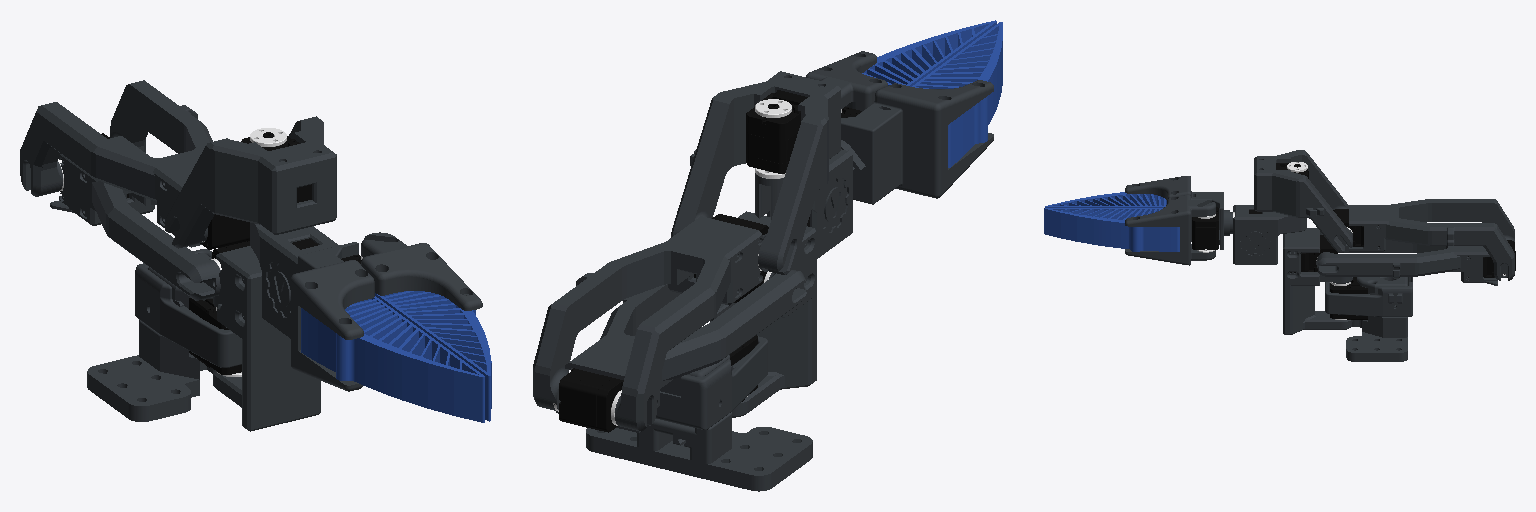
--- Render facts (derived) ---
The picture shows the robot from 3 angles, left to right: view 1: azimuth 30°, elevation 25°; view 2: azimuth 150°, elevation 25°; view 3: azimuth 270°, elevation 25°; orthographic projection.
Robot: urdf — 8 links, 7 joints (7 revolute); root link base; default pose: all joints at 0.
Links seen in each view (by area): view 1: gripper_base, forearm, wrist_raise, base, base_pan, gripper_move, arm, wrist_pan; view 2: forearm, wrist_raise, gripper_base, base, arm, base_pan, gripper_move, wrist_pan; view 3: forearm, gripper_move, base, wrist_raise, arm, base_pan, gripper_base, wrist_pan.
Link boxes in pixels (x1=…): gripper_base: x1=291, y1=242, x2=484, y2=422; forearm: x1=20, y1=80, x2=249, y2=249; wrist_raise: x1=165, y1=116, x2=336, y2=248; base: x1=87, y1=249, x2=241, y2=421; base_pan: x1=211, y1=241, x2=320, y2=431; gripper_move: x1=361, y1=232, x2=491, y2=421; arm: x1=50, y1=133, x2=220, y2=300; wrist_pan: x1=250, y1=223, x2=339, y2=338; forearm: x1=533, y1=214, x2=768, y2=431; wrist_raise: x1=671, y1=71, x2=840, y2=274; gripper_base: x1=841, y1=22, x2=1002, y2=204; base: x1=586, y1=335, x2=812, y2=491; arm: x1=553, y1=270, x2=806, y2=432; base_pan: x1=710, y1=211, x2=816, y2=417; gripper_move: x1=806, y1=20, x2=996, y2=110; wrist_pan: x1=755, y1=149, x2=852, y2=258; forearm: x1=1333, y1=199, x2=1514, y2=280; gripper_move: x1=1044, y1=195, x2=1215, y2=265; base: x1=1325, y1=277, x2=1412, y2=361; wrist_raise: x1=1254, y1=150, x2=1352, y2=252; arm: x1=1316, y1=232, x2=1515, y2=285; base_pan: x1=1283, y1=228, x2=1352, y2=334; gripper_base: x1=1045, y1=176, x2=1232, y2=252; wrist_pan: x1=1233, y1=205, x2=1306, y2=264.
Size in the robot's own frame: 0.1107 by 0.428 by 0.1709 metres.
Meshes: 18 distinct files referenced, 67 mesh visuals loaded (18 binary STL).

URDF robot description (urdf):
<?xml version="1.0" ?>
<!-- Generated using onshape-to-robot -->
<!-- Onshape https://cad.onshape.com/documents/8f0c406ec917b7dcd4f2a559/w/98dc4b308a1cdd23475c2f79/e/5e1992bfb0f88c9dc7357fb3 -->
<robot name="urdf">
  <!-- Link base -->
  <link name="base">
    <inertial>
      <origin xyz="0.000371669 -0.0122024 0.041647" rpy="0 0 0"/>
      <mass value="0.0275445"/>
      <inertia ixx="2.09633e-05" ixy="-1.25235e-07" ixz="-5.4837e-08" iyy="9.13324e-06" iyz="-1.20902e-06" izz="2.71049e-05"/>
    </inertial>
    <!-- Part motor1_holder_v1 -->
    <visual>
      <origin xyz="9.94325e-05 -4.16334e-17 -0.00861064" rpy="1.5708 1.22144e-08 2.39214e-15"/>
      <geometry>
        <mesh filename="package://assets/motor1_holder_v1.stl"/>
      </geometry>
      <material name="motor1_holder_v1_material">
        <color rgba="0.262745 0.282353 0.301961 1"/>
      </material>
    </visual>
    <collision>
      <origin xyz="9.94325e-05 -4.16334e-17 -0.00861064" rpy="1.5708 1.22144e-08 2.39214e-15"/>
      <geometry>
        <mesh filename="package://assets/motor1_holder_v1.stl"/>
      </geometry>
    </collision>
    <!-- Part base_so101_v2 -->
    <visual>
      <origin xyz="3.04734e-19 0 -0.0085" rpy="1.5708 1.22144e-08 0"/>
      <geometry>
        <mesh filename="package://assets/base_so101_v2.stl"/>
      </geometry>
      <material name="base_so101_v2_material">
        <color rgba="0.262745 0.282353 0.301961 1"/>
      </material>
    </visual>
    <collision>
      <origin xyz="3.04734e-19 0 -0.0085" rpy="1.5708 1.22144e-08 0"/>
      <geometry>
        <mesh filename="package://assets/base_so101_v2.stl"/>
      </geometry>
    </collision>
    <!-- Part ge_27 -->
    <visual>
      <origin xyz="6.08275e-10 -0.04515 0.0413" rpy="-3.14159 -1.72327e-14 1.5708"/>
      <geometry>
        <mesh filename="package://assets/ge_27.stl"/>
      </geometry>
      <material name="ge_27_material">
        <color rgba="0.0980392 0.0980392 0.0980392 1"/>
      </material>
    </visual>
    <collision>
      <origin xyz="6.08275e-10 -0.04515 0.0413" rpy="-3.14159 -1.72327e-14 1.5708"/>
      <geometry>
        <mesh filename="package://assets/ge_27.stl"/>
      </geometry>
    </collision>
    <!-- Part xg_ziji_16 -->
    <visual>
      <origin xyz="6.81562e-10 -0.01965 0.0473" rpy="1.5708 -6.31089e-30 1.5708"/>
      <geometry>
        <mesh filename="package://assets/xg_ziji_16.stl"/>
      </geometry>
      <material name="xg_ziji_16_material">
        <color rgba="0.0980392 0.0980392 0.0980392 1"/>
      </material>
    </visual>
    <collision>
      <origin xyz="6.81562e-10 -0.01965 0.0473" rpy="1.5708 -6.31089e-30 1.5708"/>
      <geometry>
        <mesh filename="package://assets/xg_ziji_16.stl"/>
      </geometry>
    </collision>
    <!-- Part pcb_chazuo_92 -->
    <visual>
      <origin xyz="6.81562e-10 -0.01965 0.0473" rpy="1.5708 -6.31089e-30 1.5708"/>
      <geometry>
        <mesh filename="package://assets/pcb_chazuo_92.stl"/>
      </geometry>
      <material name="pcb_chazuo_92_material">
        <color rgba="0.0980392 0.0980392 0.0980392 1"/>
      </material>
    </visual>
    <collision>
      <origin xyz="6.81562e-10 -0.01965 0.0473" rpy="1.5708 -6.31089e-30 1.5708"/>
      <geometry>
        <mesh filename="package://assets/pcb_chazuo_92.stl"/>
      </geometry>
    </collision>
    <!-- Part zk_122 -->
    <visual>
      <origin xyz="6.81562e-10 -0.01965 0.0473" rpy="1.5708 -6.31089e-30 1.5708"/>
      <geometry>
        <mesh filename="package://assets/zk_122.stl"/>
      </geometry>
      <material name="zk_122_material">
        <color rgba="0.0980392 0.0980392 0.0980392 1"/>
      </material>
    </visual>
    <collision>
      <origin xyz="6.81562e-10 -0.01965 0.0473" rpy="1.5708 -6.31089e-30 1.5708"/>
      <geometry>
        <mesh filename="package://assets/zk_122.stl"/>
      </geometry>
    </collision>
    <!-- Part 金属舵盘_驱动__v2 -->
    <visual>
      <origin xyz="4.69031e-10 -0.05515 0.0299" rpy="1.5708 -3.63043e-14 1.5708"/>
      <geometry>
        <mesh filename="package://assets/金属舵盘_驱动__v2.stl"/>
      </geometry>
      <material name="金属舵盘_驱动__v2_material">
        <color rgba="0.960784 0.960784 0.964706 1"/>
      </material>
    </visual>
    <collision>
      <origin xyz="4.69031e-10 -0.05515 0.0299" rpy="1.5708 -3.63043e-14 1.5708"/>
      <geometry>
        <mesh filename="package://assets/金属舵盘_驱动__v2.stl"/>
      </geometry>
    </collision>
    <!-- Part 金属舵盘_从动__v2 -->
    <visual>
      <origin xyz="7.75598e-11 -0.03515 -0.00215" rpy="-1.5708 7.21645e-15 -1.5708"/>
      <geometry>
        <mesh filename="package://assets/金属舵盘_从动__v2.stl"/>
      </geometry>
      <material name="金属舵盘_从动__v2_material">
        <color rgba="0.960784 0.960784 0.964706 1"/>
      </material>
    </visual>
    <collision>
      <origin xyz="7.75598e-11 -0.03515 -0.00215" rpy="-1.5708 7.21645e-15 -1.5708"/>
      <geometry>
        <mesh filename="package://assets/金属舵盘_从动__v2.stl"/>
      </geometry>
    </collision>
    <!-- Part motor_1723_3 -->
    <visual>
      <origin xyz="-0.00125 -0.01965 0.02445" rpy="1.5708 -1.22144e-08 3.14159"/>
      <geometry>
        <mesh filename="package://assets/motor_1723_3.stl"/>
      </geometry>
      <material name="motor_1723_3_material">
        <color rgba="0.0980392 0.0980392 0.0980392 1"/>
      </material>
    </visual>
    <collision>
      <origin xyz="-0.00125 -0.01965 0.02445" rpy="1.5708 -1.22144e-08 3.14159"/>
      <geometry>
        <mesh filename="package://assets/motor_1723_3.stl"/>
      </geometry>
    </collision>
    <!-- Part sg_ziji_15 -->
    <visual>
      <origin xyz="6.81562e-10 -0.01965 0.0473" rpy="1.5708 -6.31089e-30 1.5708"/>
      <geometry>
        <mesh filename="package://assets/sg_ziji_15.stl"/>
      </geometry>
      <material name="sg_ziji_15_material">
        <color rgba="0.0980392 0.0980392 0.0980392 1"/>
      </material>
    </visual>
    <collision>
      <origin xyz="6.81562e-10 -0.01965 0.0473" rpy="1.5708 -6.31089e-30 1.5708"/>
      <geometry>
        <mesh filename="package://assets/sg_ziji_15.stl"/>
      </geometry>
    </collision>
  </link>
  <!-- Link base_pan -->
  <link name="base_pan">
    <inertial>
      <origin xyz="0 0 0" rpy="0 0 0"/>
      <mass value="1e-09"/>
      <inertia ixx="1e-09" ixy="0" ixz="0" iyy="1e-09" iyz="0" izz="1e-09"/>
    </inertial>
    <!-- Part part_1 -->
    <visual>
      <origin xyz="0.000236556 7.32214e-18 0.0182" rpy="3.14159 8.84314e-16 3.14159"/>
      <geometry>
        <mesh filename="package://assets/part_1.stl"/>
      </geometry>
      <material name="part_1_material">
        <color rgba="0.262745 0.282353 0.301961 1"/>
      </material>
    </visual>
    <collision>
      <origin xyz="0.000236556 7.32214e-18 0.0182" rpy="3.14159 8.84314e-16 3.14159"/>
      <geometry>
        <mesh filename="package://assets/part_1.stl"/>
      </geometry>
    </collision>
    <!-- Part ge_27_2 -->
    <visual>
      <origin xyz="-0.0126601 -0.004 -0.0252617" rpy="1.5708 5.37163e-13 3.14159"/>
      <geometry>
        <mesh filename="package://assets/ge_27.stl"/>
      </geometry>
      <material name="ge_27_2_material">
        <color rgba="0.0980392 0.0980392 0.0980392 1"/>
      </material>
    </visual>
    <collision>
      <origin xyz="-0.0126601 -0.004 -0.0252617" rpy="1.5708 5.37163e-13 3.14159"/>
      <geometry>
        <mesh filename="package://assets/ge_27.stl"/>
      </geometry>
    </collision>
    <!-- Part xg_ziji_16_2 -->
    <visual>
      <origin xyz="-0.0381601 -0.01 -0.0252617" rpy="-5.18819e-17 8.84314e-16 -3.14159"/>
      <geometry>
        <mesh filename="package://assets/xg_ziji_16.stl"/>
      </geometry>
      <material name="xg_ziji_16_2_material">
        <color rgba="0.0980392 0.0980392 0.0980392 1"/>
      </material>
    </visual>
    <collision>
      <origin xyz="-0.0381601 -0.01 -0.0252617" rpy="-5.18819e-17 8.84314e-16 -3.14159"/>
      <geometry>
        <mesh filename="package://assets/xg_ziji_16.stl"/>
      </geometry>
    </collision>
    <!-- Part pcb_chazuo_92_2 -->
    <visual>
      <origin xyz="-0.0381601 -0.01 -0.0252617" rpy="-5.18819e-17 8.84314e-16 -3.14159"/>
      <geometry>
        <mesh filename="package://assets/pcb_chazuo_92.stl"/>
      </geometry>
      <material name="pcb_chazuo_92_2_material">
        <color rgba="0.0980392 0.0980392 0.0980392 1"/>
      </material>
    </visual>
    <collision>
      <origin xyz="-0.0381601 -0.01 -0.0252617" rpy="-5.18819e-17 8.84314e-16 -3.14159"/>
      <geometry>
        <mesh filename="package://assets/pcb_chazuo_92.stl"/>
      </geometry>
    </collision>
    <!-- Part zk_122_2 -->
    <visual>
      <origin xyz="-0.0381601 -0.01 -0.0252617" rpy="-5.18819e-17 8.84314e-16 -3.14159"/>
      <geometry>
        <mesh filename="package://assets/zk_122.stl"/>
      </geometry>
      <material name="zk_122_2_material">
        <color rgba="0.0980392 0.0980392 0.0980392 1"/>
      </material>
    </visual>
    <collision>
      <origin xyz="-0.0381601 -0.01 -0.0252617" rpy="-5.18819e-17 8.84314e-16 -3.14159"/>
      <geometry>
        <mesh filename="package://assets/zk_122.stl"/>
      </geometry>
    </collision>
    <!-- Part 金属舵盘_驱动__v2_2 -->
    <visual>
      <origin xyz="-0.00266006 0.0074 -0.0252617" rpy="3.74777e-17 1.48109e-15 3.14159"/>
      <geometry>
        <mesh filename="package://assets/金属舵盘_驱动__v2.stl"/>
      </geometry>
      <material name="金属舵盘_驱动__v2_2_material">
        <color rgba="0.960784 0.960784 0.964706 1"/>
      </material>
    </visual>
    <collision>
      <origin xyz="-0.00266006 0.0074 -0.0252617" rpy="3.74777e-17 1.48109e-15 3.14159"/>
      <geometry>
        <mesh filename="package://assets/金属舵盘_驱动__v2.stl"/>
      </geometry>
    </collision>
    <!-- Part 金属舵盘_从动__v2_2 -->
    <visual>
      <origin xyz="-0.0226601 0.03945 -0.0252617" rpy="-2.433e-16 -1.20441e-15 -2.97672e-13"/>
      <geometry>
        <mesh filename="package://assets/金属舵盘_从动__v2.stl"/>
      </geometry>
      <material name="金属舵盘_从动__v2_2_material">
        <color rgba="0.960784 0.960784 0.964706 1"/>
      </material>
    </visual>
    <collision>
      <origin xyz="-0.0226601 0.03945 -0.0252617" rpy="-2.433e-16 -1.20441e-15 -2.97672e-13"/>
      <geometry>
        <mesh filename="package://assets/金属舵盘_从动__v2.stl"/>
      </geometry>
    </collision>
    <!-- Part motor_1723_3_2 -->
    <visual>
      <origin xyz="-0.0381601 0.01285 -0.0265117" rpy="-3.14159 1.5708 0"/>
      <geometry>
        <mesh filename="package://assets/motor_1723_3.stl"/>
      </geometry>
      <material name="motor_1723_3_2_material">
        <color rgba="0.0980392 0.0980392 0.0980392 1"/>
      </material>
    </visual>
    <collision>
      <origin xyz="-0.0381601 0.01285 -0.0265117" rpy="-3.14159 1.5708 0"/>
      <geometry>
        <mesh filename="package://assets/motor_1723_3.stl"/>
      </geometry>
    </collision>
    <!-- Part sg_ziji_15_2 -->
    <visual>
      <origin xyz="-0.0381601 -0.01 -0.0252617" rpy="-5.18819e-17 8.84314e-16 -3.14159"/>
      <geometry>
        <mesh filename="package://assets/sg_ziji_15.stl"/>
      </geometry>
      <material name="sg_ziji_15_2_material">
        <color rgba="0.0980392 0.0980392 0.0980392 1"/>
      </material>
    </visual>
    <collision>
      <origin xyz="-0.0381601 -0.01 -0.0252617" rpy="-5.18819e-17 8.84314e-16 -3.14159"/>
      <geometry>
        <mesh filename="package://assets/sg_ziji_15.stl"/>
      </geometry>
    </collision>
  </link>
  <!-- Link arm -->
  <link name="arm">
    <inertial>
      <origin xyz="0 0 0" rpy="0 0 0"/>
      <mass value="1e-09"/>
      <inertia ixx="1e-09" ixy="0" ixz="0" iyy="1e-09" iyz="0" izz="1e-09"/>
    </inertial>
    <!-- Part part_1_2 -->
    <visual>
      <origin xyz="-0.161258 0.005765 0.0175" rpy="1.11022e-16 -8.14037e-15 4.69954e-14"/>
      <geometry>
        <mesh filename="package://assets/part_1__2.stl"/>
      </geometry>
      <material name="part_1_2_material">
        <color rgba="0.262745 0.282353 0.301961 1"/>
      </material>
    </visual>
    <collision>
      <origin xyz="-0.161258 0.005765 0.0175" rpy="1.11022e-16 -8.14037e-15 4.69954e-14"/>
      <geometry>
        <mesh filename="package://assets/part_1__2.stl"/>
      </geometry>
    </collision>
    <!-- Part ge_27_3 -->
    <visual>
      <origin xyz="-0.161258 0.005765 0.01385" rpy="-3.96572e-13 2.64752e-13 -2.3755e-13"/>
      <geometry>
        <mesh filename="package://assets/ge_27.stl"/>
      </geometry>
      <material name="ge_27_3_material">
        <color rgba="0.0980392 0.0980392 0.0980392 1"/>
      </material>
    </visual>
    <collision>
      <origin xyz="-0.161258 0.005765 0.01385" rpy="-3.96572e-13 2.64752e-13 -2.3755e-13"/>
      <geometry>
        <mesh filename="package://assets/ge_27.stl"/>
      </geometry>
    </collision>
    <!-- Part xg_ziji_16_3 -->
    <visual>
      <origin xyz="-0.135758 0.005765 0.00785" rpy="-1.5708 -8.14037e-15 4.69954e-14"/>
      <geometry>
        <mesh filename="package://assets/xg_ziji_16.stl"/>
      </geometry>
      <material name="xg_ziji_16_3_material">
        <color rgba="0.0980392 0.0980392 0.0980392 1"/>
      </material>
    </visual>
    <collision>
      <origin xyz="-0.135758 0.005765 0.00785" rpy="-1.5708 -8.14037e-15 4.69954e-14"/>
      <geometry>
        <mesh filename="package://assets/xg_ziji_16.stl"/>
      </geometry>
    </collision>
    <!-- Part pcb_chazuo_92_3 -->
    <visual>
      <origin xyz="-0.135758 0.005765 0.00785" rpy="-1.5708 -8.14037e-15 4.69954e-14"/>
      <geometry>
        <mesh filename="package://assets/pcb_chazuo_92.stl"/>
      </geometry>
      <material name="pcb_chazuo_92_3_material">
        <color rgba="0.0980392 0.0980392 0.0980392 1"/>
      </material>
    </visual>
    <collision>
      <origin xyz="-0.135758 0.005765 0.00785" rpy="-1.5708 -8.14037e-15 4.69954e-14"/>
      <geometry>
        <mesh filename="package://assets/pcb_chazuo_92.stl"/>
      </geometry>
    </collision>
    <!-- Part zk_122_3 -->
    <visual>
      <origin xyz="-0.135758 0.005765 0.00785" rpy="-1.5708 -8.14037e-15 4.69954e-14"/>
      <geometry>
        <mesh filename="package://assets/zk_122.stl"/>
      </geometry>
      <material name="zk_122_3_material">
        <color rgba="0.0980392 0.0980392 0.0980392 1"/>
      </material>
    </visual>
    <collision>
      <origin xyz="-0.135758 0.005765 0.00785" rpy="-1.5708 -8.14037e-15 4.69954e-14"/>
      <geometry>
        <mesh filename="package://assets/zk_122.stl"/>
      </geometry>
    </collision>
    <!-- Part 金属舵盘_驱动__v2_3 -->
    <visual>
      <origin xyz="-0.171258 0.005765 0.02525" rpy="-1.5708 -7.44207e-14 1.28129e-16"/>
      <geometry>
        <mesh filename="package://assets/金属舵盘_驱动__v2.stl"/>
      </geometry>
      <material name="金属舵盘_驱动__v2_3_material">
        <color rgba="0.960784 0.960784 0.964706 1"/>
      </material>
    </visual>
    <collision>
      <origin xyz="-0.171258 0.005765 0.02525" rpy="-1.5708 -7.44207e-14 1.28129e-16"/>
      <geometry>
        <mesh filename="package://assets/金属舵盘_驱动__v2.stl"/>
      </geometry>
    </collision>
    <!-- Part 金属舵盘_从动__v2_3 -->
    <visual>
      <origin xyz="-0.151258 0.005765 0.0573" rpy="1.5708 1.16931e-14 -3.14159"/>
      <geometry>
        <mesh filename="package://assets/金属舵盘_从动__v2.stl"/>
      </geometry>
      <material name="金属舵盘_从动__v2_3_material">
        <color rgba="0.960784 0.960784 0.964706 1"/>
      </material>
    </visual>
    <collision>
      <origin xyz="-0.151258 0.005765 0.0573" rpy="1.5708 1.16931e-14 -3.14159"/>
      <geometry>
        <mesh filename="package://assets/金属舵盘_从动__v2.stl"/>
      </geometry>
    </collision>
    <!-- Part motor_1723_3_3 -->
    <visual>
      <origin xyz="-0.135758 0.004515 0.0307" rpy="-1.5708 -3.14693e-13 -1.5708"/>
      <geometry>
        <mesh filename="package://assets/motor_1723_3.stl"/>
      </geometry>
      <material name="motor_1723_3_3_material">
        <color rgba="0.0980392 0.0980392 0.0980392 1"/>
      </material>
    </visual>
    <collision>
      <origin xyz="-0.135758 0.004515 0.0307" rpy="-1.5708 -3.14693e-13 -1.5708"/>
      <geometry>
        <mesh filename="package://assets/motor_1723_3.stl"/>
      </geometry>
    </collision>
    <!-- Part sg_ziji_15_3 -->
    <visual>
      <origin xyz="-0.135758 0.005765 0.00785" rpy="-1.5708 -8.14037e-15 4.69954e-14"/>
      <geometry>
        <mesh filename="package://assets/sg_ziji_15.stl"/>
      </geometry>
      <material name="sg_ziji_15_3_material">
        <color rgba="0.0980392 0.0980392 0.0980392 1"/>
      </material>
    </visual>
    <collision>
      <origin xyz="-0.135758 0.005765 0.00785" rpy="-1.5708 -8.14037e-15 4.69954e-14"/>
      <geometry>
        <mesh filename="package://assets/sg_ziji_15.stl"/>
      </geometry>
    </collision>
  </link>
  <!-- Link forearm -->
  <link name="forearm">
    <inertial>
      <origin xyz="0 0 0" rpy="0 0 0"/>
      <mass value="1e-09"/>
      <inertia ixx="1e-09" ixy="0" ixz="0" iyy="1e-09" iyz="0" izz="1e-09"/>
    </inertial>
    <!-- Part part_1_3 -->
    <visual>
      <origin xyz="0.146885 -0.030202 0.0175" rpy="-1.31425e-15 -6.57252e-14 -3.14159"/>
      <geometry>
        <mesh filename="package://assets/part_1__3.stl"/>
      </geometry>
      <material name="part_1_3_material">
        <color rgba="0.262745 0.282353 0.301961 1"/>
      </material>
    </visual>
    <collision>
      <origin xyz="0.146885 -0.030202 0.0175" rpy="-1.31425e-15 -6.57252e-14 -3.14159"/>
      <geometry>
        <mesh filename="package://assets/part_1__3.stl"/>
      </geometry>
    </collision>
    <!-- Part ge_27_4 -->
    <visual>
      <origin xyz="0.146885 -0.030202 0.01395" rpy="6.18081e-13 -2.97762e-13 -3.14159"/>
      <geometry>
        <mesh filename="package://assets/ge_27.stl"/>
      </geometry>
      <material name="ge_27_4_material">
        <color rgba="0.0980392 0.0980392 0.0980392 1"/>
      </material>
    </visual>
    <collision>
      <origin xyz="0.146885 -0.030202 0.01395" rpy="6.18081e-13 -2.97762e-13 -3.14159"/>
      <geometry>
        <mesh filename="package://assets/ge_27.stl"/>
      </geometry>
    </collision>
    <!-- Part xg_ziji_16_4 -->
    <visual>
      <origin xyz="0.121385 -0.030202 0.00795" rpy="-1.5708 -6.57252e-14 -3.14159"/>
      <geometry>
        <mesh filename="package://assets/xg_ziji_16.stl"/>
      </geometry>
      <material name="xg_ziji_16_4_material">
        <color rgba="0.0980392 0.0980392 0.0980392 1"/>
      </material>
    </visual>
    <collision>
      <origin xyz="0.121385 -0.030202 0.00795" rpy="-1.5708 -6.57252e-14 -3.14159"/>
      <geometry>
        <mesh filename="package://assets/xg_ziji_16.stl"/>
      </geometry>
    </collision>
    <!-- Part pcb_chazuo_92_4 -->
    <visual>
      <origin xyz="0.121385 -0.030202 0.00795" rpy="-1.5708 -6.57252e-14 -3.14159"/>
      <geometry>
        <mesh filename="package://assets/pcb_chazuo_92.stl"/>
      </geometry>
      <material name="pcb_chazuo_92_4_material">
        <color rgba="0.0980392 0.0980392 0.0980392 1"/>
      </material>
    </visual>
    <collision>
      <origin xyz="0.121385 -0.030202 0.00795" rpy="-1.5708 -6.57252e-14 -3.14159"/>
      <geometry>
        <mesh filename="package://assets/pcb_chazuo_92.stl"/>
      </geometry>
    </collision>
    <!-- Part zk_122_4 -->
    <visual>
      <origin xyz="0.121385 -0.030202 0.00795" rpy="-1.5708 -6.57252e-14 -3.14159"/>
      <geometry>
        <mesh filename="package://assets/zk_122.stl"/>
      </geometry>
      <material name="zk_122_4_material">
        <color rgba="0.0980392 0.0980392 0.0980392 1"/>
      </material>
    </visual>
    <collision>
      <origin xyz="0.121385 -0.030202 0.00795" rpy="-1.5708 -6.57252e-14 -3.14159"/>
      <geometry>
        <mesh filename="package://assets/zk_122.stl"/>
      </geometry>
    </collision>
    <!-- Part 金属舵盘_驱动__v2_4 -->
    <visual>
      <origin xyz="0.156885 -0.030202 0.02535" rpy="-1.5708 -6.77236e-14 -3.14159"/>
      <geometry>
        <mesh filename="package://assets/金属舵盘_驱动__v2.stl"/>
      </geometry>
      <material name="金属舵盘_驱动__v2_4_material">
        <color rgba="0.960784 0.960784 0.964706 1"/>
      </material>
    </visual>
    <collision>
      <origin xyz="0.156885 -0.030202 0.02535" rpy="-1.5708 -6.77236e-14 -3.14159"/>
      <geometry>
        <mesh filename="package://assets/金属舵盘_驱动__v2.stl"/>
      </geometry>
    </collision>
    <!-- Part 金属舵盘_从动__v2_4 -->
    <visual>
      <origin xyz="0.136885 -0.030202 0.0574" rpy="1.5708 1.63758e-13 -3.70424e-13"/>
      <geometry>
        <mesh filename="package://assets/金属舵盘_从动__v2.stl"/>
      </geometry>
      <material name="金属舵盘_从动__v2_4_material">
        <color rgba="0.960784 0.960784 0.964706 1"/>
      </material>
    </visual>
    <collision>
      <origin xyz="0.136885 -0.030202 0.0574" rpy="1.5708 1.63758e-13 -3.70424e-13"/>
      <geometry>
        <mesh filename="package://assets/金属舵盘_从动__v2.stl"/>
      </geometry>
    </collision>
    <!-- Part motor_1723_3_4 -->
    <visual>
      <origin xyz="0.121385 -0.028952 0.0308" rpy="-1.5708 -5.04399e-14 1.5708"/>
      <geometry>
        <mesh filename="package://assets/motor_1723_3.stl"/>
      </geometry>
      <material name="motor_1723_3_4_material">
        <color rgba="0.0980392 0.0980392 0.0980392 1"/>
      </material>
    </visual>
    <collision>
      <origin xyz="0.121385 -0.028952 0.0308" rpy="-1.5708 -5.04399e-14 1.5708"/>
      <geometry>
        <mesh filename="package://assets/motor_1723_3.stl"/>
      </geometry>
    </collision>
    <!-- Part sg_ziji_15_4 -->
    <visual>
      <origin xyz="0.121385 -0.030202 0.00795" rpy="-1.5708 -6.57252e-14 -3.14159"/>
      <geometry>
        <mesh filename="package://assets/sg_ziji_15.stl"/>
      </geometry>
      <material name="sg_ziji_15_4_material">
        <color rgba="0.0980392 0.0980392 0.0980392 1"/>
      </material>
    </visual>
    <collision>
      <origin xyz="0.121385 -0.030202 0.00795" rpy="-1.5708 -6.57252e-14 -3.14159"/>
      <geometry>
        <mesh filename="package://assets/sg_ziji_15.stl"/>
      </geometry>
    </collision>
  </link>
  <!-- Link wrist_raise -->
  <link name="wrist_raise">
    <inertial>
      <origin xyz="0 0 0" rpy="0 0 0"/>
      <mass value="1e-09"/>
      <inertia ixx="1e-09" ixy="0" ixz="0" iyy="1e-09" iyz="0" izz="1e-09"/>
    </inertial>
    <!-- Part part_1_4 -->
    <visual>
      <origin xyz="0.0411343 0.044825 0.0175" rpy="-1.5708 -2.12167e-29 0"/>
      <geometry>
        <mesh filename="package://assets/part_1__4.stl"/>
      </geometry>
      <material name="part_1_4_material">
        <color rgba="0.262745 0.282353 0.301961 1"/>
      </material>
    </visual>
    <collision>
      <origin xyz="0.0411343 0.044825 0.0175" rpy="-1.5708 -2.12167e-29 0"/>
      <geometry>
        <mesh filename="package://assets/part_1__4.stl"/>
      </geometry>
    </collision>
    <!-- Part ge_27_5 -->
    <visual>
      <origin xyz="0.0411343 0.041275 0.0175" rpy="-1.5708 -1.19127e-13 -2.07843e-14"/>
      <geometry>
        <mesh filename="package://assets/ge_27.stl"/>
      </geometry>
      <material name="ge_27_5_material">
        <color rgba="0.0980392 0.0980392 0.0980392 1"/>
      </material>
    </visual>
    <collision>
      <origin xyz="0.0411343 0.041275 0.0175" rpy="-1.5708 -1.19127e-13 -2.07843e-14"/>
      <geometry>
        <mesh filename="package://assets/ge_27.stl"/>
      </geometry>
    </collision>
    <!-- Part xg_ziji_16_5 -->
    <visual>
      <origin xyz="0.0666343 0.035275 0.0175" rpy="-3.14159 4.62977e-25 -1.66531e-16"/>
      <geometry>
        <mesh filename="package://assets/xg_ziji_16.stl"/>
      </geometry>
      <material name="xg_ziji_16_5_material">
        <color rgba="0.0980392 0.0980392 0.0980392 1"/>
      </material>
    </visual>
    <collision>
      <origin xyz="0.0666343 0.035275 0.0175" rpy="-3.14159 4.62977e-25 -1.66531e-16"/>
      <geometry>
        <mesh filename="package://assets/xg_ziji_16.stl"/>
      </geometry>
    </collision>
    <!-- Part pcb_chazuo_92_5 -->
    <visual>
      <origin xyz="0.0666343 0.035275 0.0175" rpy="-3.14159 4.62977e-25 -1.66531e-16"/>
      <geometry>
        <mesh filename="package://assets/pcb_chazuo_92.stl"/>
      </geometry>
      <material name="pcb_chazuo_92_5_material">
        <color rgba="0.0980392 0.0980392 0.0980392 1"/>
      </material>
    </visual>
    <collision>
      <origin xyz="0.0666343 0.035275 0.0175" rpy="-3.14159 4.62977e-25 -1.66531e-16"/>
      <geometry>
        <mesh filename="package://assets/pcb_chazuo_92.stl"/>
      </geometry>
    </collision>
    <!-- Part zk_122_5 -->
    <visual>
      <origin xyz="0.0666343 0.035275 0.0175" rpy="-3.14159 4.62977e-25 -1.66531e-16"/>
      <geometry>
        <mesh filename="package://assets/zk_122.stl"/>
      </geometry>
      <material name="zk_122_5_material">
        <color rgba="0.0980392 0.0980392 0.0980392 1"/>
      </material>
    </visual>
    <collision>
      <origin xyz="0.0666343 0.035275 0.0175" rpy="-3.14159 4.62977e-25 -1.66531e-16"/>
      <geometry>
        <mesh filename="package://assets/zk_122.stl"/>
      </geometry>
    </collision>
    <!-- Part 金属舵盘_驱动__v2_5 -->
    <visual>
      <origin xyz="0.0311343 0.052675 0.0175" rpy="-3.14159 -7.77156e-16 1.66534e-15"/>
      <geometry>
        <mesh filename="package://assets/金属舵盘_驱动__v2.stl"/>
      </geometry>
      <material name="金属舵盘_驱动__v2_5_material">
        <color rgba="0.960784 0.960784 0.964706 1"/>
      </material>
    </visual>
    <collision>
      <origin xyz="0.0311343 0.052675 0.0175" rpy="-3.14159 -7.77156e-16 1.66534e-15"/>
      <geometry>
        <mesh filename="package://assets/金属舵盘_驱动__v2.stl"/>
      </geometry>
    </collision>
    <!-- Part 金属舵盘_从动__v2_5 -->
    <visual>
      <origin xyz="0.0511343 0.084725 0.0175" rpy="-3.14159 -6.77236e-15 3.14159"/>
      <geometry>
        <mesh filename="package://assets/金属舵盘_从动__v2.stl"/>
      </geometry>
      <material name="金属舵盘_从动__v2_5_material">
        <color rgba="0.960784 0.960784 0.964706 1"/>
      </material>
    </visual>
    <collision>
      <origin xyz="0.0511343 0.084725 0.0175" rpy="-3.14159 -6.77236e-15 3.14159"/>
      <geometry>
        <mesh filename="package://assets/金属舵盘_从动__v2.stl"/>
      </geometry>
    </collision>
    <!-- Part motor_1723_3_5 -->
    <visual>
      <origin xyz="0.0666343 0.058125 0.01875" rpy="-3.14159 -1.5708 0"/>
      <geometry>
        <mesh filename="package://assets/motor_1723_3.stl"/>
      </geometry>
      <material name="motor_1723_3_5_material">
        <color rgba="0.0980392 0.0980392 0.0980392 1"/>
      </material>
    </visual>
    <collision>
      <origin xyz="0.0666343 0.058125 0.01875" rpy="-3.14159 -1.5708 0"/>
      <geometry>
        <mesh filename="package://assets/motor_1723_3.stl"/>
      </geometry>
    </collision>
    <!-- Part sg_ziji_15_5 -->
    <visual>
      <origin xyz="0.0666343 0.035275 0.0175" rpy="-3.14159 4.62977e-25 -1.66531e-16"/>
      <geometry>
        <mesh filename="package://assets/sg_ziji_15.stl"/>
      </geometry>
      <material name="sg_ziji_15_5_material">
        <color rgba="0.0980392 0.0980392 0.0980392 1"/>
      </material>
    </visual>
    <collision>
      <origin xyz="0.0666343 0.035275 0.0175" rpy="-3.14159 4.62977e-25 -1.66531e-16"/>
      <geometry>
        <mesh filename="package://assets/sg_ziji_15.stl"/>
      </geometry>
    </collision>
  </link>
  <!-- Link wrist_pan -->
  <link name="wrist_pan">
    <inertial>
      <origin xyz="0 0 0" rpy="0 0 0"/>
      <mass value="1e-09"/>
      <inertia ixx="1e-09" ixy="0" ixz="0" iyy="1e-09" iyz="0" izz="1e-09"/>
    </inertial>
    <!-- Part part_1_5 -->
    <visual>
      <origin xyz="0 0.038016 -0.0312" rpy="3.14159 3.88959e-25 -1.93425e-29"/>
      <geometry>
        <mesh filename="package://assets/part_1__5.stl"/>
      </geometry>
      <material name="part_1_5_material">
        <color rgba="0.262745 0.282353 0.301961 1"/>
      </material>
    </visual>
    <collision>
      <origin xyz="0 0.038016 -0.0312" rpy="3.14159 3.88959e-25 -1.93425e-29"/>
      <geometry>
        <mesh filename="package://assets/part_1__5.stl"/>
      </geometry>
    </collision>
    <!-- Part ge_27_6 -->
    <visual>
      <origin xyz="3.81538e-05 0.043216 -0.02" rpy="1.5708 1.5708 0"/>
      <geometry>
        <mesh filename="package://assets/ge_27.stl"/>
      </geometry>
      <material name="ge_27_6_material">
        <color rgba="0.0980392 0.0980392 0.0980392 1"/>
      </material>
    </visual>
    <collision>
      <origin xyz="3.81538e-05 0.043216 -0.02" rpy="1.5708 1.5708 0"/>
      <geometry>
        <mesh filename="package://assets/ge_27.stl"/>
      </geometry>
    </collision>
    <!-- Part xg_ziji_16_6 -->
    <visual>
      <origin xyz="3.81538e-05 0.049216 -0.0455" rpy="2.94764e-14 1.5708 0"/>
      <geometry>
        <mesh filename="package://assets/xg_ziji_16.stl"/>
      </geometry>
      <material name="xg_ziji_16_6_material">
        <color rgba="0.0980392 0.0980392 0.0980392 1"/>
      </material>
    </visual>
    <collision>
      <origin xyz="3.81538e-05 0.049216 -0.0455" rpy="2.94764e-14 1.5708 0"/>
      <geometry>
        <mesh filename="package://assets/xg_ziji_16.stl"/>
      </geometry>
    </collision>
    <!-- Part pcb_chazuo_92_6 -->
    <visual>
      <origin xyz="3.81538e-05 0.049216 -0.0455" rpy="2.94764e-14 1.5708 0"/>
      <geometry>
        <mesh filename="package://assets/pcb_chazuo_92.stl"/>
      </geometry>
      <material name="pcb_chazuo_92_6_material">
        <color rgba="0.0980392 0.0980392 0.0980392 1"/>
      </material>
    </visual>
    <collision>
      <origin xyz="3.81538e-05 0.049216 -0.0455" rpy="2.94764e-14 1.5708 0"/>
      <geometry>
        <mesh filename="package://assets/pcb_chazuo_92.stl"/>
      </geometry>
    </collision>
    <!-- Part zk_122_6 -->
    <visual>
      <origin xyz="3.81538e-05 0.049216 -0.0455" rpy="2.94764e-14 1.5708 0"/>
      <geometry>
        <mesh filename="package://assets/zk_122.stl"/>
      </geometry>
      <material name="zk_122_6_material">
        <color rgba="0.0980392 0.0980392 0.0980392 1"/>
      </material>
    </visual>
    <collision>
      <origin xyz="3.81538e-05 0.049216 -0.0455" rpy="2.94764e-14 1.5708 0"/>
      <geometry>
        <mesh filename="package://assets/zk_122.stl"/>
      </geometry>
    </collision>
    <!-- Part 金属舵盘_驱动__v2_6 -->
    <visual>
      <origin xyz="3.81538e-05 0.031816 -0.01" rpy="2.86993e-14 1.5708 0"/>
      <geometry>
        <mesh filename="package://assets/金属舵盘_驱动__v2.stl"/>
      </geometry>
      <material name="金属舵盘_驱动__v2_6_material">
        <color rgba="0.960784 0.960784 0.964706 1"/>
      </material>
    </visual>
    <collision>
      <origin xyz="3.81538e-05 0.031816 -0.01" rpy="2.86993e-14 1.5708 0"/>
      <geometry>
        <mesh filename="package://assets/金属舵盘_驱动__v2.stl"/>
      </geometry>
    </collision>
    <!-- Part 金属舵盘_从动__v2_6 -->
    <visual>
      <origin xyz="3.81538e-05 -0.000234 -0.03" rpy="-3.14159 -1.5708 0"/>
      <geometry>
        <mesh filename="package://assets/金属舵盘_从动__v2.stl"/>
      </geometry>
      <material name="金属舵盘_从动__v2_6_material">
        <color rgba="0.960784 0.960784 0.964706 1"/>
      </material>
    </visual>
    <collision>
      <origin xyz="3.81538e-05 -0.000234 -0.03" rpy="-3.14159 -1.5708 0"/>
      <geometry>
        <mesh filename="package://assets/金属舵盘_从动__v2.stl"/>
      </geometry>
    </collision>
    <!-- Part motor_1723_3_6 -->
    <visual>
      <origin xyz="-0.00121185 0.026366 -0.0455" rpy="-3.14159 2.34304e-13 3.14159"/>
      <geometry>
        <mesh filename="package://assets/motor_1723_3.stl"/>
      </geometry>
      <material name="motor_1723_3_6_material">
        <color rgba="0.0980392 0.0980392 0.0980392 1"/>
      </material>
    </visual>
    <collision>
      <origin xyz="-0.00121185 0.026366 -0.0455" rpy="-3.14159 2.34304e-13 3.14159"/>
      <geometry>
        <mesh filename="package://assets/motor_1723_3.stl"/>
      </geometry>
    </collision>
    <!-- Part sg_ziji_15_6 -->
    <visual>
      <origin xyz="3.81538e-05 0.049216 -0.0455" rpy="2.94764e-14 1.5708 0"/>
      <geometry>
        <mesh filename="package://assets/sg_ziji_15.stl"/>
      </geometry>
      <material name="sg_ziji_15_6_material">
        <color rgba="0.0980392 0.0980392 0.0980392 1"/>
      </material>
    </visual>
    <collision>
      <origin xyz="3.81538e-05 0.049216 -0.0455" rpy="2.94764e-14 1.5708 0"/>
      <geometry>
        <mesh filename="package://assets/sg_ziji_15.stl"/>
      </geometry>
    </collision>
  </link>
  <!-- Link gripper_base -->
  <link name="gripper_base">
    <inertial>
      <origin xyz="0 0 0" rpy="0 0 0"/>
      <mass value="1e-09"/>
      <inertia ixx="1e-09" ixy="0" ixz="0" iyy="1e-09" iyz="0" izz="1e-09"/>
    </inertial>
    <!-- Part compliantgripper -->
    <visual>
      <origin xyz="-0.0142 0.00372 -0.0475" rpy="1.43831e-14 1.30218e-14 1.5708"/>
      <geometry>
        <mesh filename="package://assets/compliantgripper.stl"/>
      </geometry>
      <material name="compliantgripper_material">
        <color rgba="0.231373 0.380392 0.705882 1"/>
      </material>
    </visual>
    <collision>
      <origin xyz="-0.0142 0.00372 -0.0475" rpy="1.43831e-14 1.30218e-14 1.5708"/>
      <geometry>
        <mesh filename="package://assets/compliantgripper.stl"/>
      </geometry>
    </collision>
    <!-- Part part_1_6 -->
    <visual>
      <origin xyz="-1.38778e-17 0 -0.008" rpy="1.5708 1.39113e-14 2.30671e-14"/>
      <geometry>
        <mesh filename="package://assets/part_1__6.stl"/>
      </geometry>
      <material name="part_1_6_material">
        <color rgba="0.262745 0.282353 0.301961 1"/>
      </material>
    </visual>
    <collision>
      <origin xyz="-1.38778e-17 0 -0.008" rpy="1.5708 1.39113e-14 2.30671e-14"/>
      <geometry>
        <mesh filename="package://assets/part_1__6.stl"/>
      </geometry>
    </collision>
    <!-- Part ge_27_7 -->
    <visual>
      <origin xyz="-0.0038 -0.018 -0.0245" rpy="1.5708 1.03075e-14 1.5708"/>
      <geometry>
        <mesh filename="package://assets/ge_27.stl"/>
      </geometry>
      <material name="ge_27_7_material">
        <color rgba="0.0980392 0.0980392 0.0980392 1"/>
      </material>
    </visual>
    <collision>
      <origin xyz="-0.0038 -0.018 -0.0245" rpy="1.5708 1.03075e-14 1.5708"/>
      <geometry>
        <mesh filename="package://assets/ge_27.stl"/>
      </geometry>
    </collision>
    <!-- Part xg_ziji_16_7 -->
    <visual>
      <origin xyz="-0.0098 0.0075 -0.0245" rpy="1.3717e-14 1.30504e-14 1.5708"/>
      <geometry>
        <mesh filename="package://assets/xg_ziji_16.stl"/>
      </geometry>
      <material name="xg_ziji_16_7_material">
        <color rgba="0.0980392 0.0980392 0.0980392 1"/>
      </material>
    </visual>
    <collision>
      <origin xyz="-0.0098 0.0075 -0.0245" rpy="1.3717e-14 1.30504e-14 1.5708"/>
      <geometry>
        <mesh filename="package://assets/xg_ziji_16.stl"/>
      </geometry>
    </collision>
    <!-- Part pcb_chazuo_92_7 -->
    <visual>
      <origin xyz="-0.0098 0.0075 -0.0245" rpy="1.3717e-14 1.30504e-14 1.5708"/>
      <geometry>
        <mesh filename="package://assets/pcb_chazuo_92.stl"/>
      </geometry>
      <material name="pcb_chazuo_92_7_material">
        <color rgba="0.0980392 0.0980392 0.0980392 1"/>
      </material>
    </visual>
    <collision>
      <origin xyz="-0.0098 0.0075 -0.0245" rpy="1.3717e-14 1.30504e-14 1.5708"/>
      <geometry>
        <mesh filename="package://assets/pcb_chazuo_92.stl"/>
      </geometry>
    </collision>
    <!-- Part zk_122_7 -->
    <visual>
      <origin xyz="-0.0098 0.0075 -0.0245" rpy="1.3717e-14 1.30504e-14 1.5708"/>
      <geometry>
        <mesh filename="package://assets/zk_122.stl"/>
      </geometry>
      <material name="zk_122_7_material">
        <color rgba="0.0980392 0.0980392 0.0980392 1"/>
      </material>
    </visual>
    <collision>
      <origin xyz="-0.0098 0.0075 -0.0245" rpy="1.3717e-14 1.30504e-14 1.5708"/>
      <geometry>
        <mesh filename="package://assets/zk_122.stl"/>
      </geometry>
    </collision>
    <!-- Part 金属舵盘_驱动__v2_7 -->
    <visual>
      <origin xyz="0.0076 -0.028 -0.0245" rpy="1.36615e-14 1.20247e-14 1.5708"/>
      <geometry>
        <mesh filename="package://assets/金属舵盘_驱动__v2.stl"/>
      </geometry>
      <material name="金属舵盘_驱动__v2_7_material">
        <color rgba="0.960784 0.960784 0.964706 1"/>
      </material>
    </visual>
    <collision>
      <origin xyz="0.0076 -0.028 -0.0245" rpy="1.36615e-14 1.20247e-14 1.5708"/>
      <geometry>
        <mesh filename="package://assets/金属舵盘_驱动__v2.stl"/>
      </geometry>
    </collision>
    <!-- Part 金属舵盘_从动__v2_7 -->
    <visual>
      <origin xyz="0.03965 -0.008 -0.0245" rpy="8.10406e-14 -4.86831e-14 -1.5708"/>
      <geometry>
        <mesh filename="package://assets/金属舵盘_从动__v2.stl"/>
      </geometry>
      <material name="金属舵盘_从动__v2_7_material">
        <color rgba="0.960784 0.960784 0.964706 1"/>
      </material>
    </visual>
    <collision>
      <origin xyz="0.03965 -0.008 -0.0245" rpy="8.10406e-14 -4.86831e-14 -1.5708"/>
      <geometry>
        <mesh filename="package://assets/金属舵盘_从动__v2.stl"/>
      </geometry>
    </collision>
    <!-- Part motor_1723_3_7 -->
    <visual>
      <origin xyz="0.01305 0.0075 -0.02575" rpy="-1.5708 1.5708 0"/>
      <geometry>
        <mesh filename="package://assets/motor_1723_3.stl"/>
      </geometry>
      <material name="motor_1723_3_7_material">
        <color rgba="0.0980392 0.0980392 0.0980392 1"/>
      </material>
    </visual>
    <collision>
      <origin xyz="0.01305 0.0075 -0.02575" rpy="-1.5708 1.5708 0"/>
      <geometry>
        <mesh filename="package://assets/motor_1723_3.stl"/>
      </geometry>
    </collision>
    <!-- Part sg_ziji_15_7 -->
    <visual>
      <origin xyz="-0.0098 0.0075 -0.0245" rpy="1.3717e-14 1.30504e-14 1.5708"/>
      <geometry>
        <mesh filename="package://assets/sg_ziji_15.stl"/>
      </geometry>
      <material name="sg_ziji_15_7_material">
        <color rgba="0.0980392 0.0980392 0.0980392 1"/>
      </material>
    </visual>
    <collision>
      <origin xyz="-0.0098 0.0075 -0.0245" rpy="1.3717e-14 1.30504e-14 1.5708"/>
      <geometry>
        <mesh filename="package://assets/sg_ziji_15.stl"/>
      </geometry>
    </collision>
  </link>
  <!-- Link gripper_move -->
  <link name="gripper_move">
    <inertial>
      <origin xyz="0 0 0" rpy="0 0 0"/>
      <mass value="1e-09"/>
      <inertia ixx="1e-09" ixy="0" ixz="0" iyy="1e-09" iyz="0" izz="1e-09"/>
    </inertial>
    <!-- Part compliantgripper_2 -->
    <visual>
      <origin xyz="0.02315 0.02014 0.031" rpy="1.5708 6.3291e-16 -1.5708"/>
      <geometry>
        <mesh filename="package://assets/compliantgripper.stl"/>
      </geometry>
      <material name="compliantgripper_2_material">
        <color rgba="0.231373 0.380392 0.705882 1"/>
      </material>
    </visual>
    <collision>
      <origin xyz="0.02315 0.02014 0.031" rpy="1.5708 6.3291e-16 -1.5708"/>
      <geometry>
        <mesh filename="package://assets/compliantgripper.stl"/>
      </geometry>
    </collision>
    <!-- Part part_1_7 -->
    <visual>
      <origin xyz="0.00115 3.46945e-18 0" rpy="1.5708 5.76237e-31 -5.16292e-30"/>
      <geometry>
        <mesh filename="package://assets/part_1__7.stl"/>
      </geometry>
      <material name="part_1_7_material">
        <color rgba="0.262745 0.282353 0.301961 1"/>
      </material>
    </visual>
    <collision>
      <origin xyz="0.00115 3.46945e-18 0" rpy="1.5708 5.76237e-31 -5.16292e-30"/>
      <geometry>
        <mesh filename="package://assets/part_1__7.stl"/>
      </geometry>
    </collision>
  </link>
  <!-- Joint from gripper_base to gripper_move -->
  <joint name="gripper" type="revolute">
    <origin xyz="-0.0194 -0.018 -0.0245" rpy="-2.24351e-14 1.5708 0"/>
    <parent link="gripper_base"/>
    <child link="gripper_move"/>
    <axis xyz="0 0 1"/>
    <limit effort="10" velocity="10" lower="-1.5708" upper="2.40696e-13"/>
  </joint>
  <!-- Joint from wrist_pan to gripper_base -->
  <joint name="wrist_rotate" type="revolute">
    <origin xyz="3.81538e-05 0.058816 -0.02" rpy="1.5708 1.5708 0"/>
    <parent link="wrist_pan"/>
    <child link="gripper_base"/>
    <axis xyz="0 0 1"/>
    <limit effort="10" velocity="10" lower="-3.14159" upper="3.14159"/>
  </joint>
  <!-- Joint from wrist_raise to wrist_pan -->
  <joint name="wrist_pan" type="revolute">
    <origin xyz="0.0411343 0.025675 0.0175" rpy="-1.5708 -1.5708 0"/>
    <parent link="wrist_raise"/>
    <child link="wrist_pan"/>
    <axis xyz="0 0 1"/>
    <limit effort="10" velocity="10" lower="-1.5708" upper="1.5708"/>
  </joint>
  <!-- Joint from forearm to wrist_raise -->
  <joint name="wrist_raise" type="revolute">
    <origin xyz="0.146885 -0.030202 0.03615" rpy="-3.14159 6.57252e-14 8.55553e-15"/>
    <parent link="forearm"/>
    <child link="wrist_raise"/>
    <axis xyz="0 0 1"/>
    <limit effort="10" velocity="10" lower="-2.26893" upper="1.91986"/>
  </joint>
  <!-- Joint from arm to forearm -->
  <joint name="elbow_raise" type="revolute">
    <origin xyz="-0.161258 0.005765 -0.00175" rpy="-1.31425e-15 -7.44207e-14 1.28129e-16"/>
    <parent link="arm"/>
    <child link="forearm"/>
    <axis xyz="0 0 1"/>
    <limit effort="10" velocity="10" lower="-2.87979" upper="6.66134e-14"/>
  </joint>
  <!-- Joint from base_pan to arm -->
  <joint name="shoulder_raise" type="revolute">
    <origin xyz="-0.0126601 -0.0196 -0.0252617" rpy="1.5708 1.48109e-15 3.14159"/>
    <parent link="base_pan"/>
    <child link="arm"/>
    <axis xyz="0 0 1"/>
    <limit effort="10" velocity="10" lower="0" upper="3.49066"/>
  </joint>
  <!-- Joint from base to base_pan -->
  <joint name="shoulder_pan" type="revolute">
    <origin xyz="7.98819e-10 -0.04515 0.0569" rpy="-3.14159 -3.63043e-14 1.5708"/>
    <parent link="base"/>
    <child link="base_pan"/>
    <axis xyz="0 0 1"/>
    <limit effort="10" velocity="10" lower="-1.91986" upper="1.91986"/>
  </joint>
</robot>
